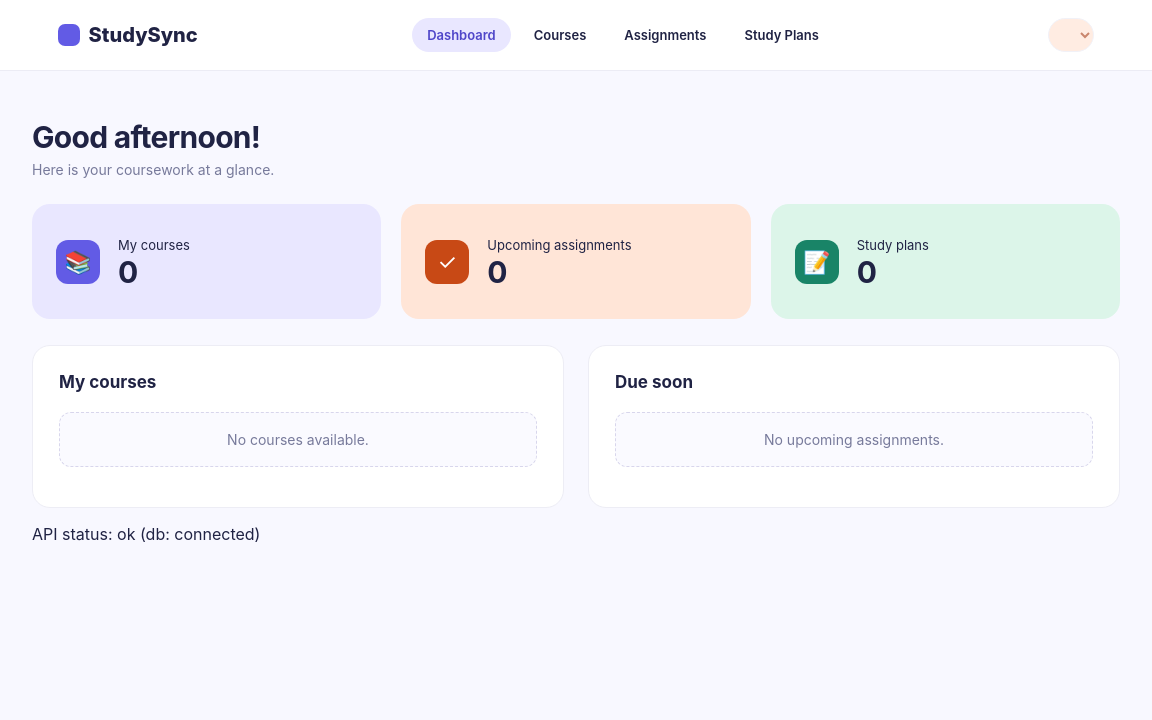
Test case: displays an empty state when no courses exist
Click the button "Courses" at (560, 35), box [519,18,601,52]
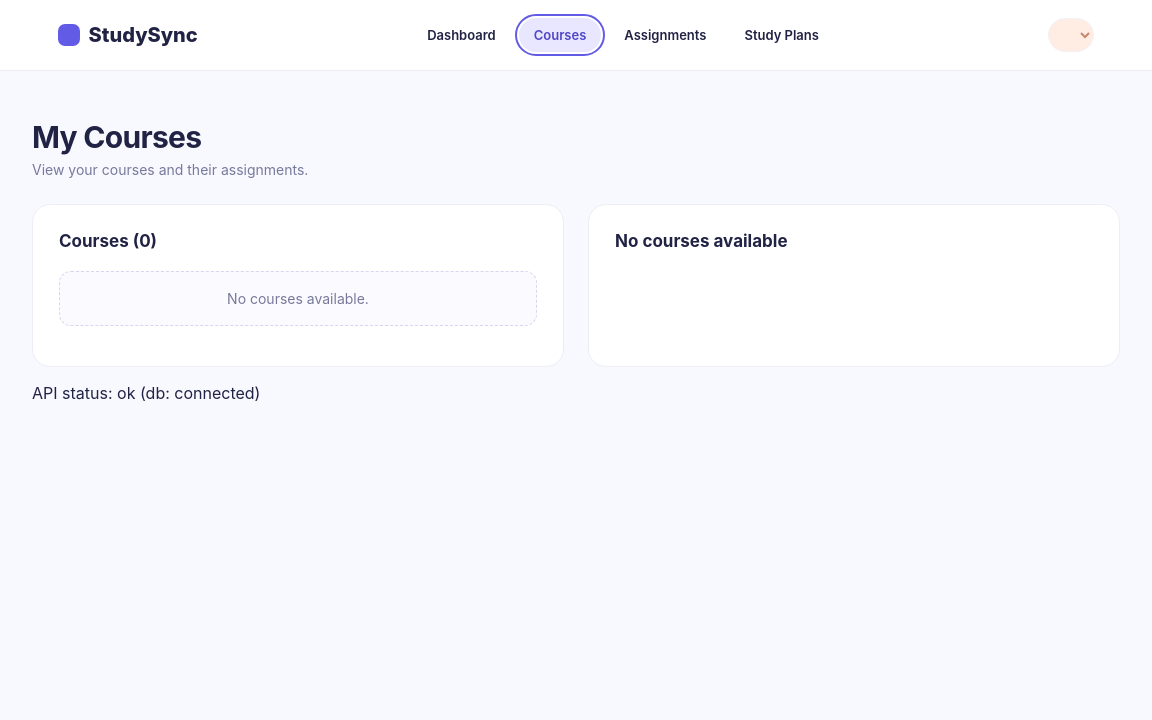
Expected: the text "No courses available." is shown, [59,271,537,326]
Expected: the heading "Courses (0)" is shown, [59,231,157,251]
